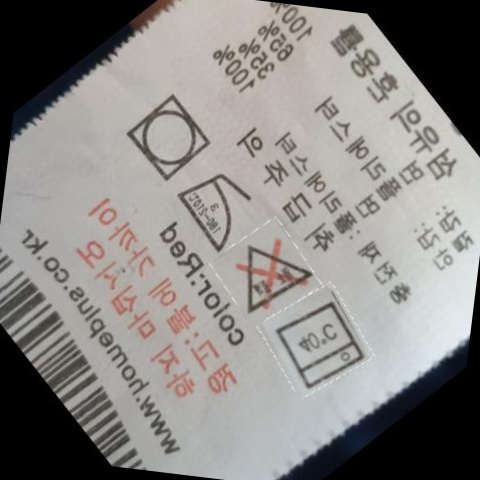40C: (268, 299, 363, 390)
iron_high: (172, 163, 247, 249)
non_chlorine_bleach: (227, 232, 309, 315)
tumble_dry_normal: (118, 85, 213, 188)
